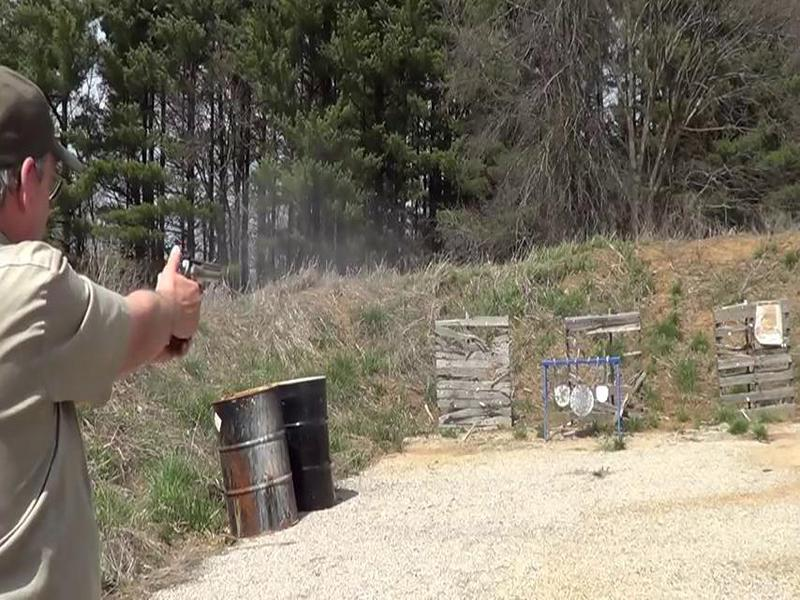Revolver: (159, 242, 243, 318)
